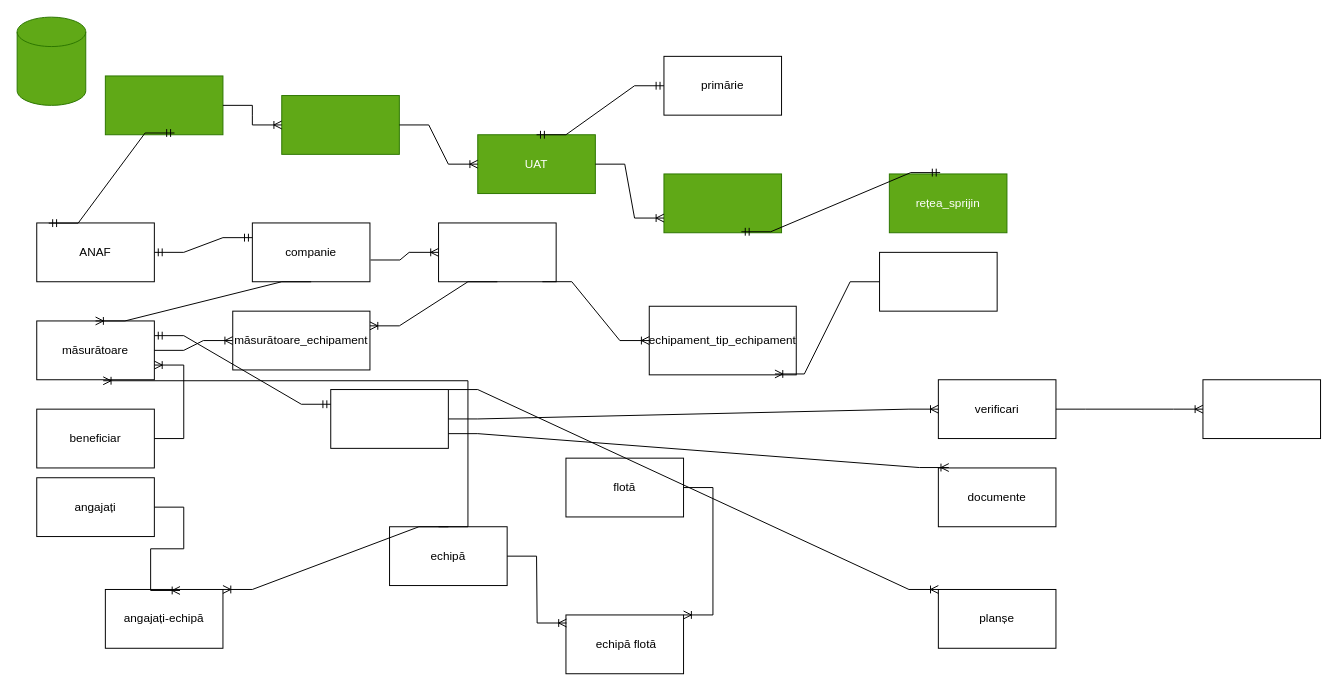
The diagram is 1338 pixels wide and 691 high, and some of its shapes have lost their labels. Each missing label, with the box of its shape:
dosar: (330, 389, 448, 448)
echipament: (438, 222, 556, 282)
județ: (281, 95, 399, 154)
Lucrări cadastru GIS: (16, 16, 86, 105)
sectoare cadastrale: (663, 173, 782, 233)
tip_echipament: (879, 251, 997, 311)
tip_verificari: (1202, 379, 1321, 439)
Țară: (104, 75, 223, 135)
